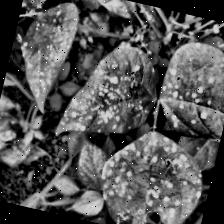Bean Rust: (54, 23, 162, 152), (91, 121, 214, 224), (152, 35, 224, 142), (13, 0, 82, 110), (50, 0, 119, 9), (12, 24, 30, 52), (0, 129, 15, 157), (0, 174, 6, 201)
